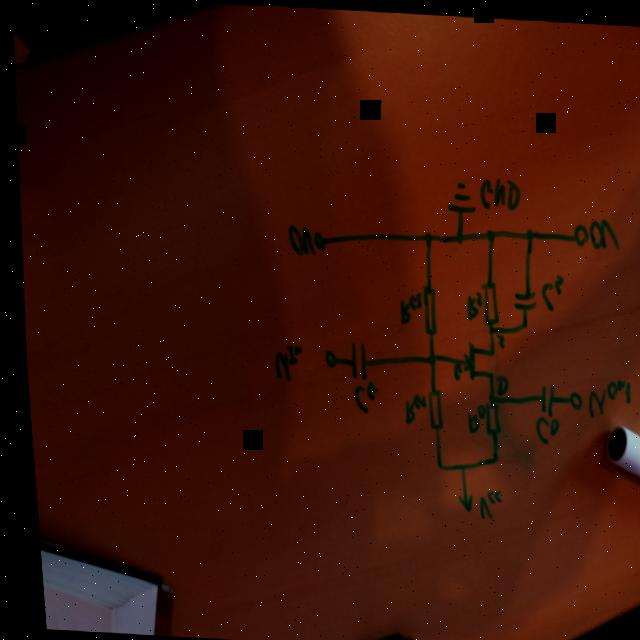capacitor: (340, 341, 363, 378), (529, 379, 550, 415), (505, 284, 532, 311)
ground: (440, 178, 472, 216)
junction: (418, 349, 431, 366), (480, 226, 491, 240), (519, 225, 530, 239), (417, 229, 428, 242), (450, 228, 460, 242), (426, 458, 437, 470), (482, 451, 491, 464), (514, 317, 523, 328), (450, 459, 458, 471), (479, 391, 488, 401), (481, 323, 487, 332)
resistor: (413, 282, 433, 334), (474, 279, 494, 323), (418, 386, 437, 428), (476, 401, 493, 434)
source: (447, 491, 465, 511)
terminal: (566, 220, 585, 246), (559, 387, 577, 409), (315, 347, 332, 367), (308, 230, 322, 250)
text: (579, 373, 626, 418), (473, 175, 518, 209), (265, 342, 296, 381), (533, 271, 560, 310), (582, 215, 614, 247), (280, 223, 311, 255), (344, 378, 372, 413), (391, 289, 417, 324), (468, 486, 495, 518), (394, 390, 419, 424), (526, 414, 552, 443), (457, 401, 480, 432), (459, 288, 478, 320), (488, 372, 502, 394), (444, 361, 456, 379), (489, 332, 499, 347)
transistor: (454, 340, 490, 379)
